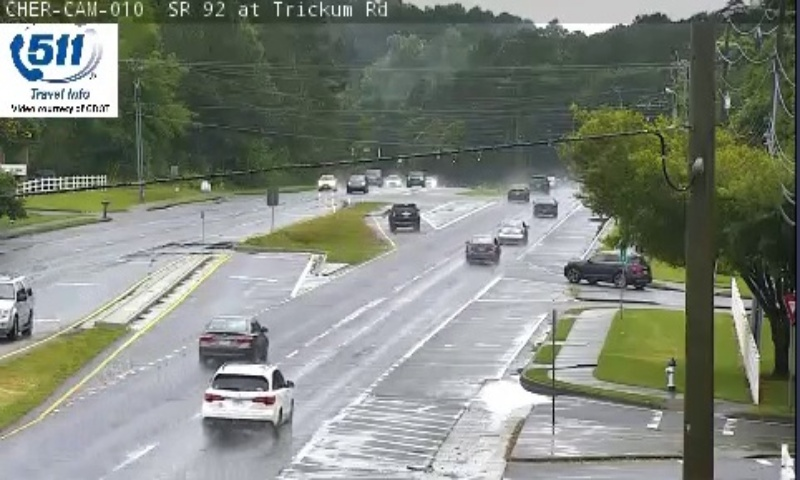car: (202, 360, 295, 427), (199, 317, 268, 360), (465, 234, 499, 261), (388, 203, 419, 229), (496, 218, 526, 243), (532, 196, 556, 218)
